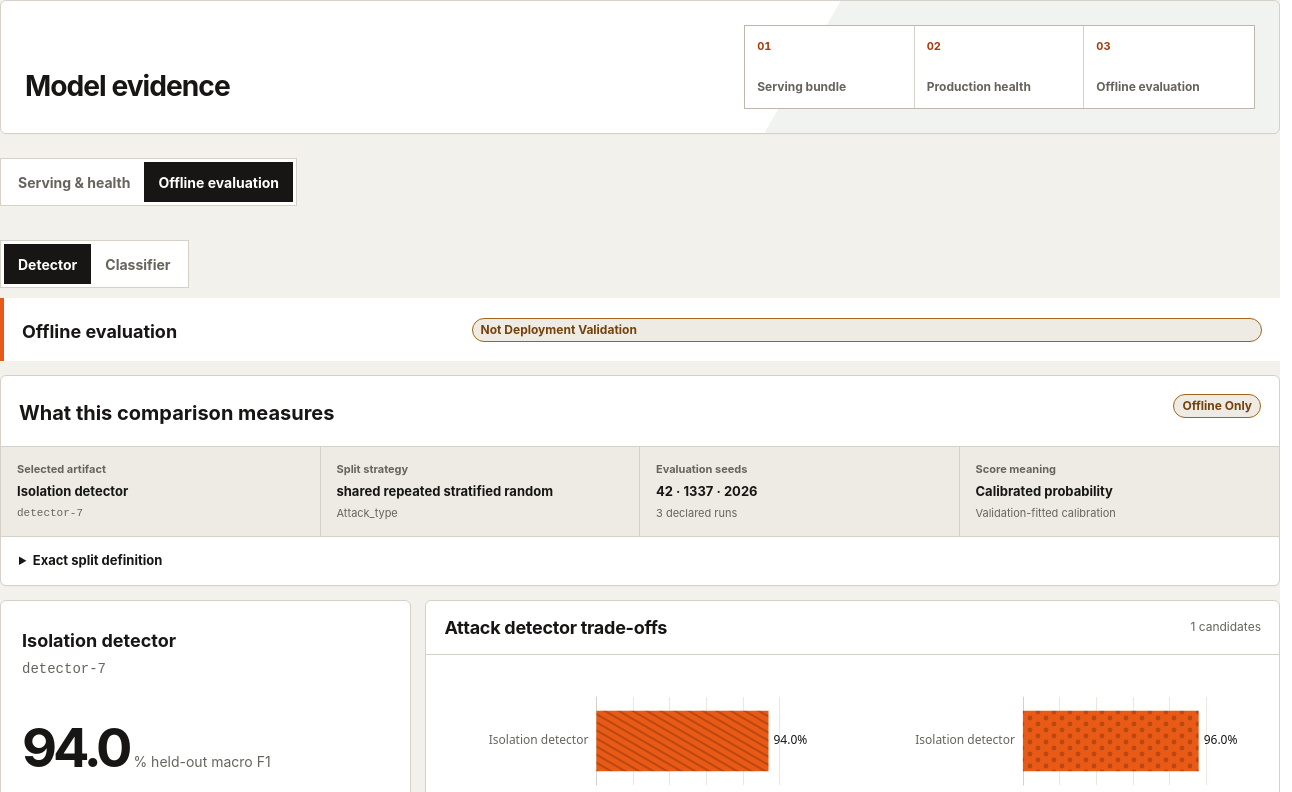
Test: ModelAnalysis › separates validation selection from held-out evidence and exposes the exact protocol
The width and height of the screenshot is (1292, 792).
expect the heading "What this comparison measures" is shown: met, box [19,398,334,428]
expect the text "42 · 1337 · 2026" is shown: met, box [656,482,758,498]
What coordinates should you click on to do the following:
click the heading "Exact split definition"
I would click on:
 (98, 560)
Its box is [33,552,162,568].
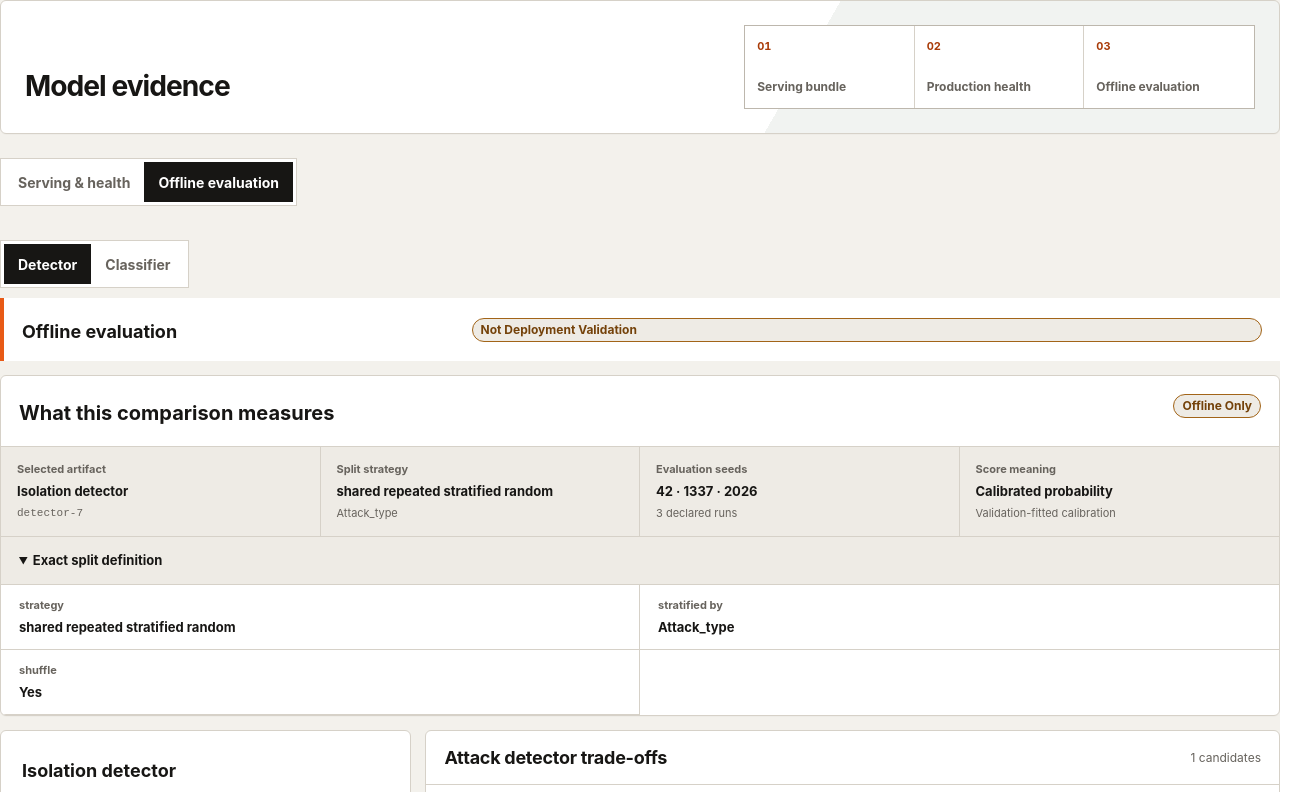
expect the text "Exact split definition" shows "shared repeated stratified random": met, box [19,618,236,634]
